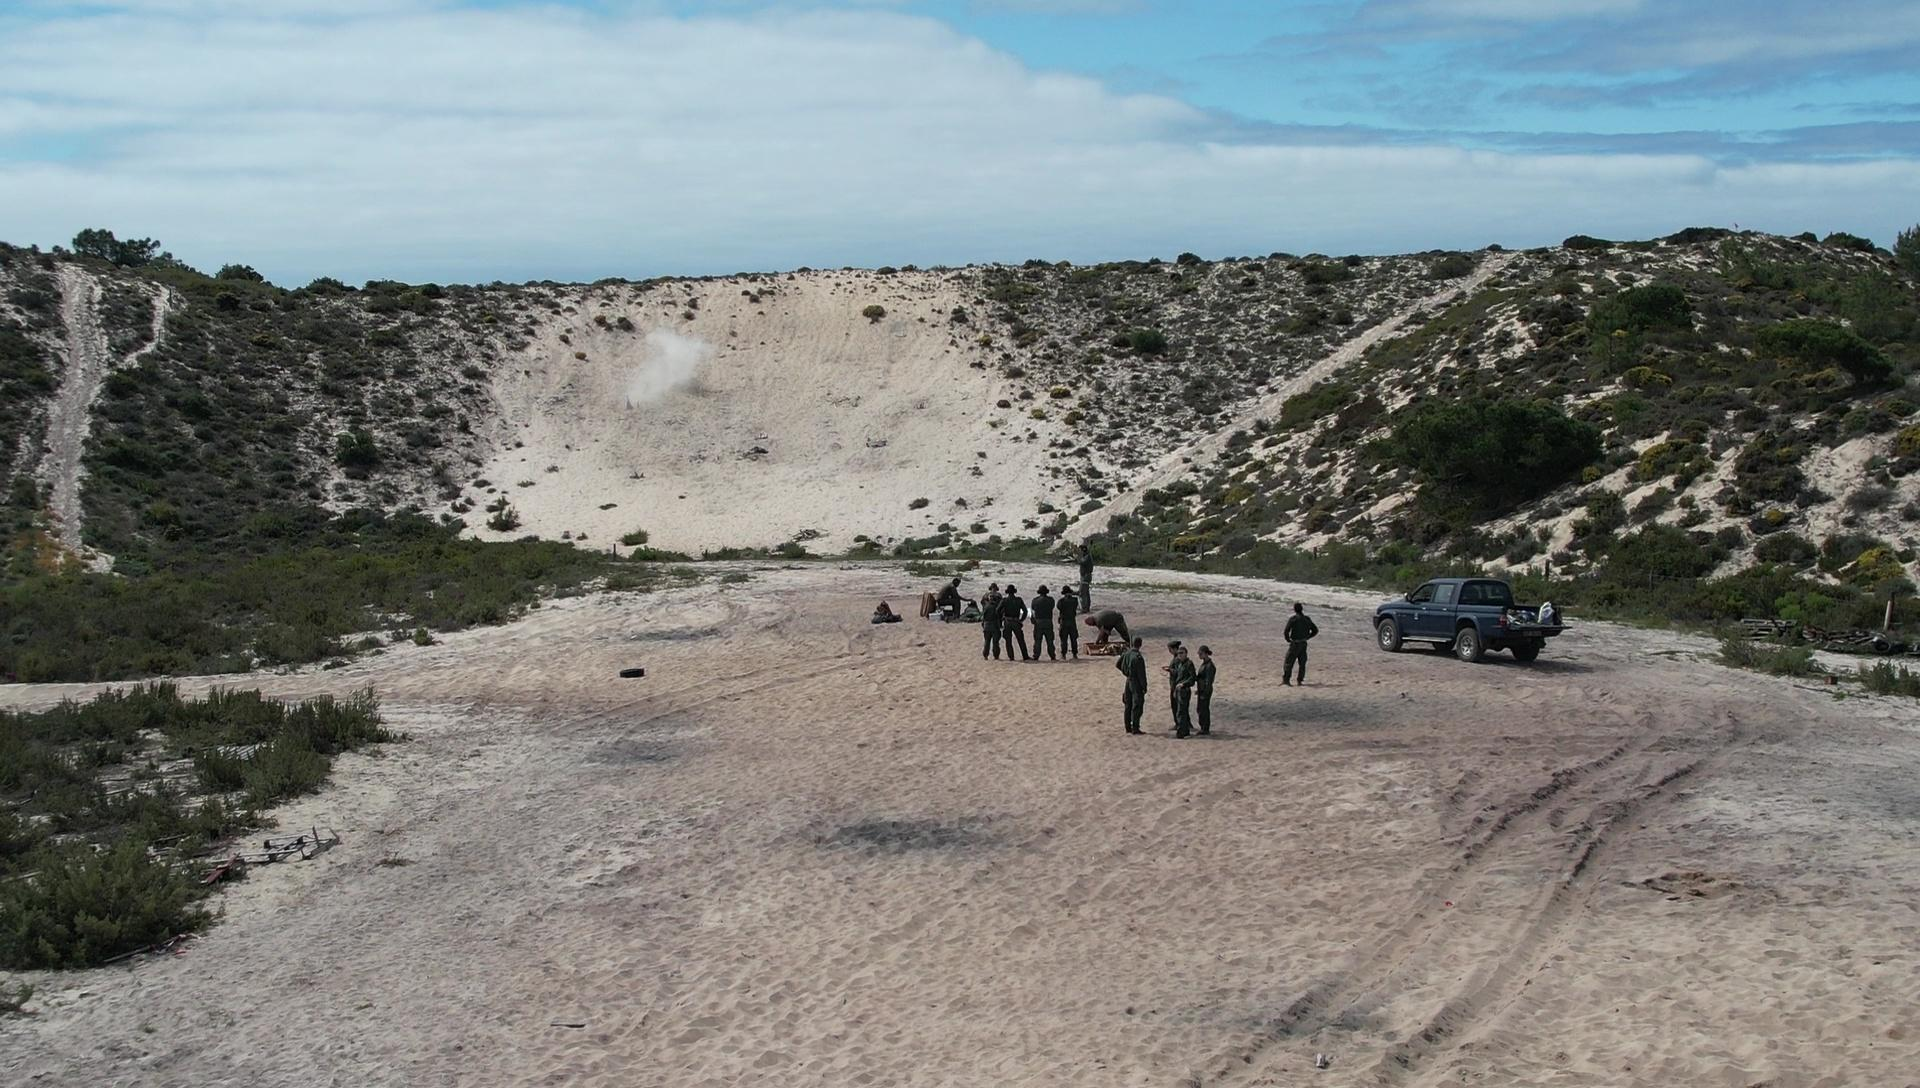Soldier: (1276, 592, 1323, 691), (1116, 626, 1155, 737), (1185, 644, 1222, 745), (982, 582, 1018, 669), (1029, 578, 1063, 667), (1001, 580, 1030, 673), (1168, 641, 1195, 741), (932, 559, 972, 624), (1058, 584, 1081, 669), (1077, 539, 1101, 615)
